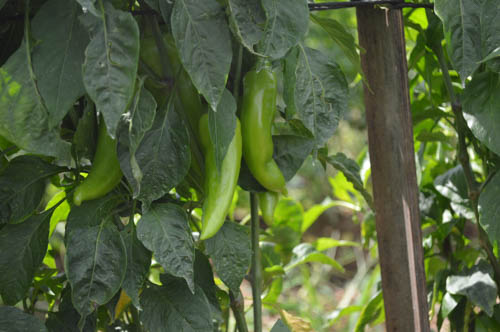ChiliPepper: (191, 118, 241, 244), (238, 73, 288, 196), (71, 124, 124, 206), (146, 40, 197, 117)
